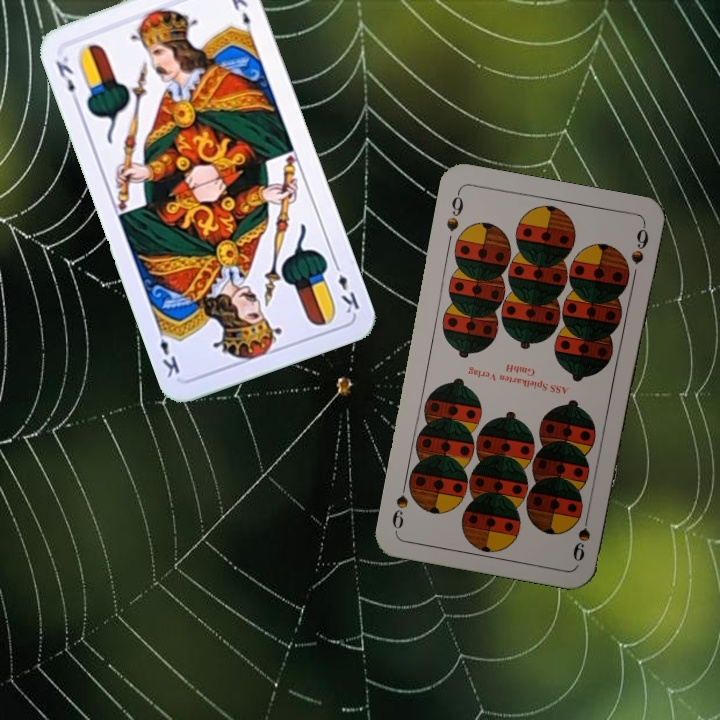EK: (329, 257, 362, 316), (51, 52, 82, 107)
S9: (568, 506, 593, 564), (442, 187, 466, 234)
